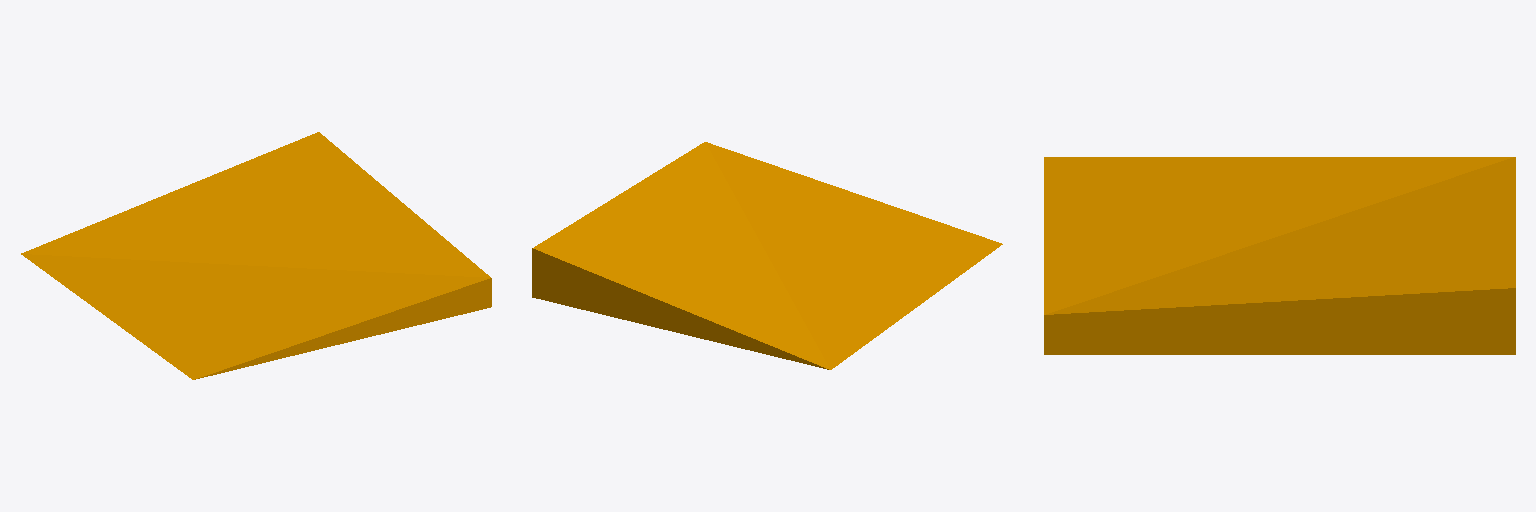
URDF robot description (wedge_unsymmetric):
<?xml version="1.0" ?>
<robot name="wedge_unsymmetric">
  <link name="wedge_unsymmetric__link_7">
    <inertial>
      <mass value="1"/>
      <origin rpy="0     0     1.5708" xyz="0 0 0"/>
      <inertia ixx="0.166667" ixy="0" ixz="0" iyy="0.166667" iyz="0" izz="0.166667"/>
    </inertial>
    <collision name="wedge_unsymmetric__collision">
      <origin rpy="0     0     1.5708" xyz="0 0 0"/>
      <geometry>
        <mesh filename="package://wedge_unsymmetric/wedge_unsymmetric.stl" scale="1 1 1"/>
      </geometry>
    </collision>
    <visual name="wedge_unsymmetric__visual">
      <origin rpy="0     0     1.5708" xyz="0 0 0"/>
      <geometry>
        <mesh filename="package://wedge_unsymmetric/wedge_unsymmetric.stl" scale="1 1 1"/>
      </geometry>
    </visual>
  </link>
</robot>

--- What the picture shows (computed from the rendered views, not written in the file) ---
Views: 3 orthographic renders of the robot side by side, from view 1: azimuth 30°, elevation 25°; view 2: azimuth 150°, elevation 25°; view 3: azimuth 270°, elevation 25°.
Robot: wedge_unsymmetric — 1 links, 0 joints (none); root link wedge_unsymmetric__link_7; default pose: every joint at zero.
Links seen in each view (by area): view 1: wedge_unsymmetric__link_7; view 2: wedge_unsymmetric__link_7; view 3: wedge_unsymmetric__link_7.
Boxes of the visible links, left/top/right/bottom form: wedge_unsymmetric__link_7: left=21, top=132, right=491, bottom=379; wedge_unsymmetric__link_7: left=532, top=142, right=1002, bottom=369; wedge_unsymmetric__link_7: left=1044, top=157, right=1515, bottom=354.
Size in the robot's own frame: 1.5 by 1.5 by 0.2369 metres.
1 mesh visuals loaded from 1 distinct referenced files (1 binary STL).